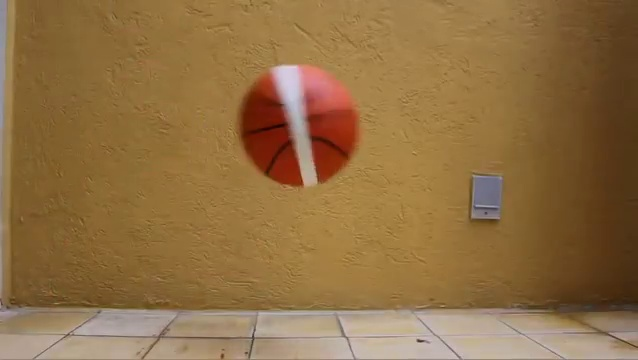ball: (236, 65, 359, 189)
